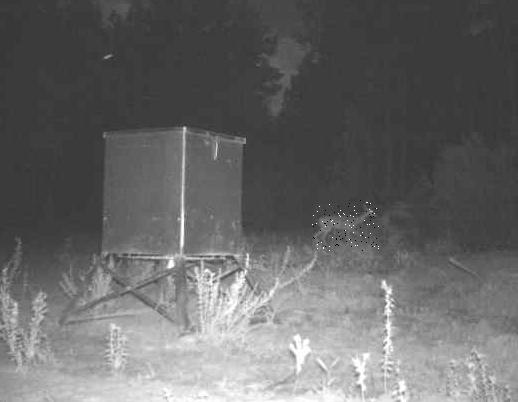Deer: (313, 200, 380, 251)
